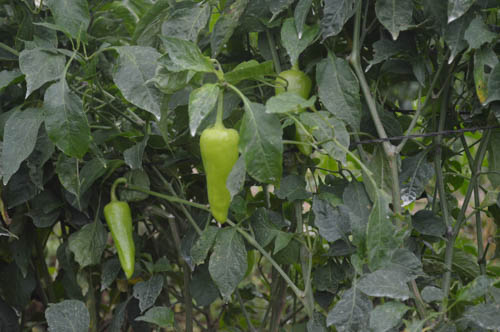ChiliPepper: (196, 129, 238, 229), (276, 71, 314, 150), (105, 202, 136, 279)
